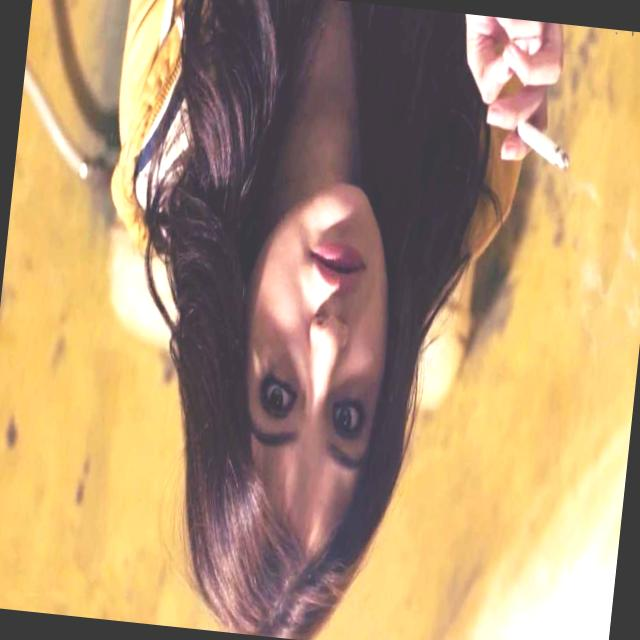smoke: (508, 130, 575, 190)
